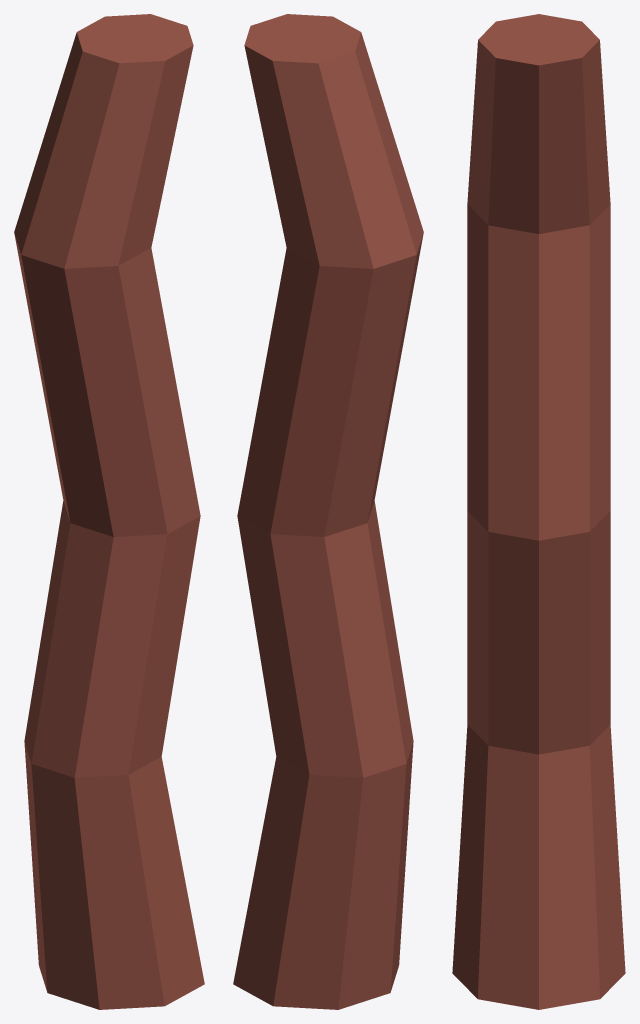
Rendered from Tree_Trunk_1.fbx.
3 views of the same model, side by side, from view 1: azimuth 30°, elevation 25°; view 2: azimuth 150°, elevation 25°; view 3: azimuth 270°, elevation 25° (orthographic).
Visible parts, largest first — view 1: Trunk_2; view 2: Trunk_2; view 3: Trunk_2.
Part boxes in pixels (x1,y1,x2,y2): Trunk_2: [14, 14, 204, 1009]; Trunk_2: [233, 14, 423, 1009]; Trunk_2: [452, 14, 625, 1009].
Bounding box in the file's own units: 84.61 × 431 × 71.94.
